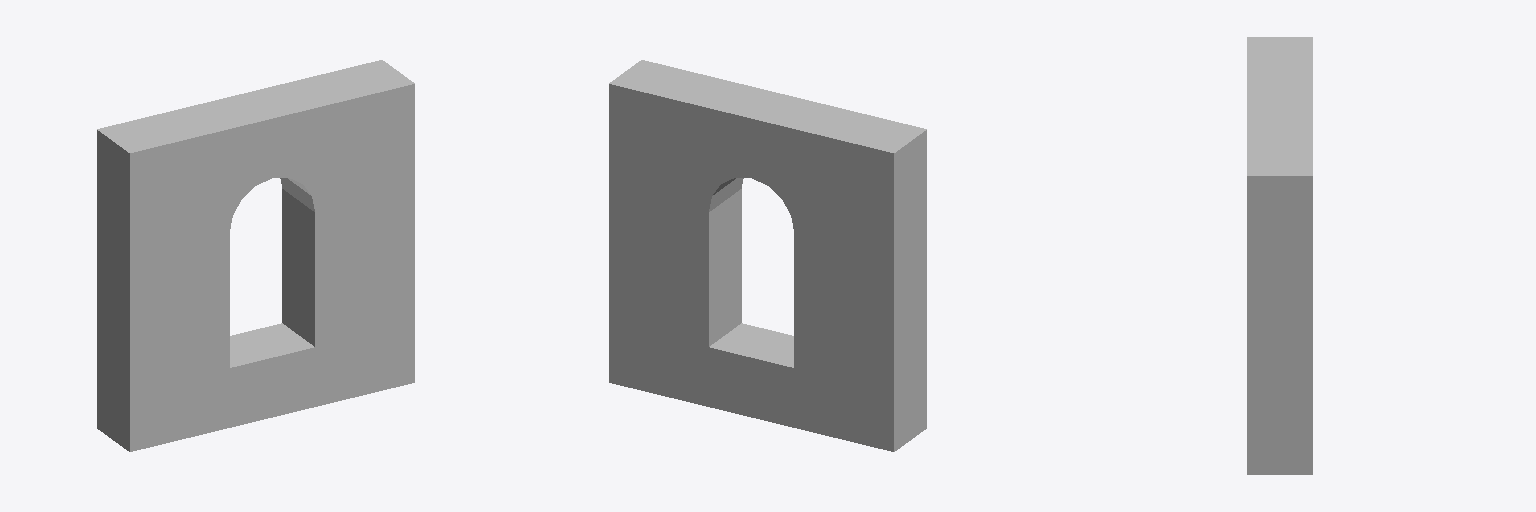
File: 2_wall_window.obj
3 views of the same model, side by side, from view 1: azimuth 30°, elevation 25°; view 2: azimuth 150°, elevation 25°; view 3: azimuth 270°, elevation 25° (orthographic).
Visible parts, largest first — view 1: object1; view 2: object1; view 3: object1.
Part boxes in pixels (x1,y1,x2,y2): object1: (97,60,414,451); object1: (609,60,926,451); object1: (1247,37,1312,474).
Size of the model in its own units: 1 by 1 by 0.2.